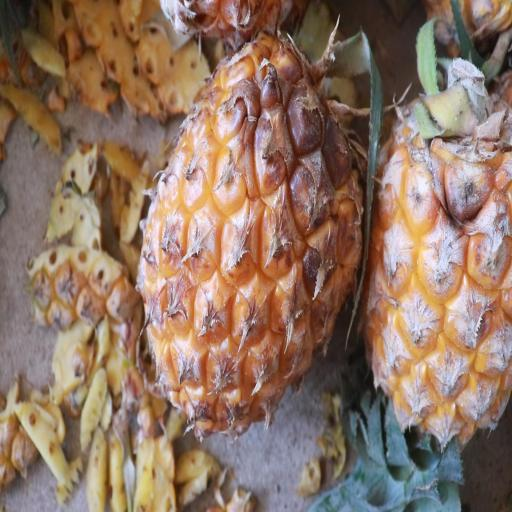Pineapple - v8 v1: (137, 32, 367, 432), (361, 46, 512, 426)
